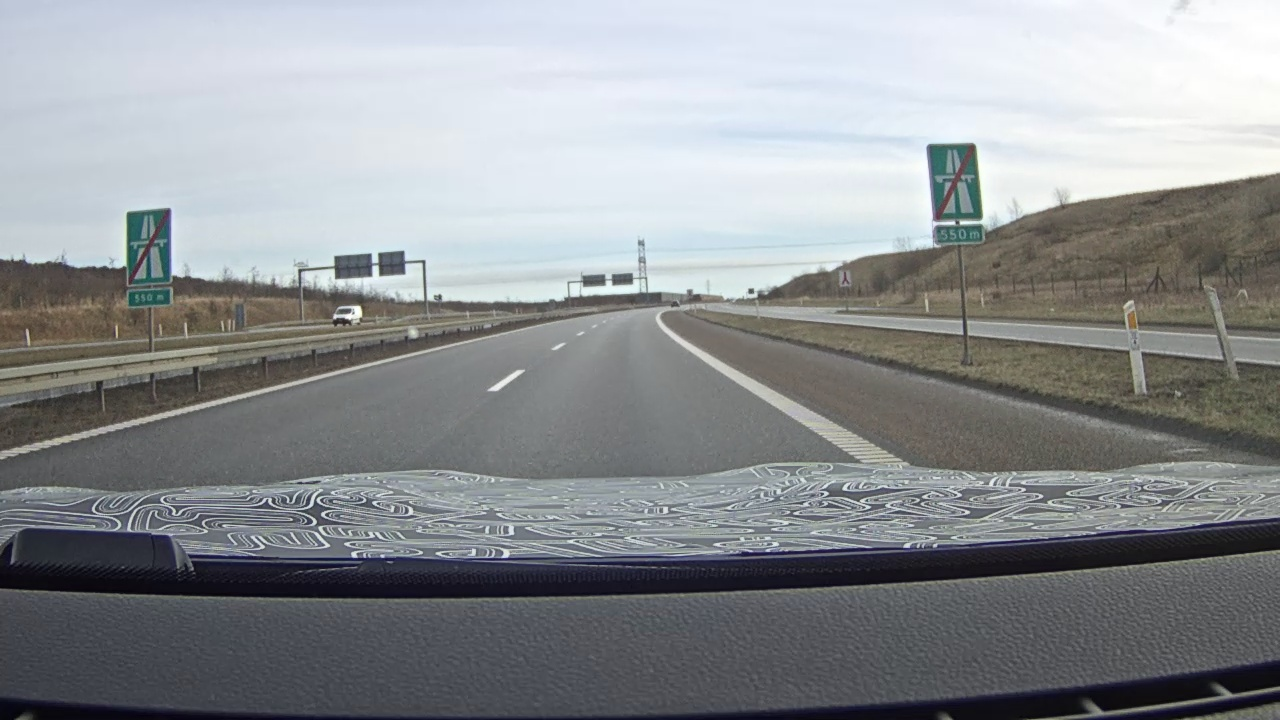Regular_End_Of_Motorway: (925, 141, 984, 223), (124, 207, 172, 287)
